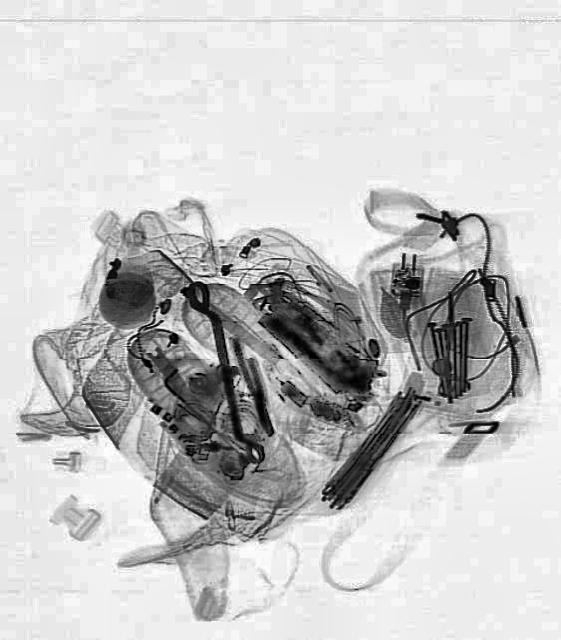Pliers: (230, 330, 278, 440)
Wrench: (179, 275, 268, 467)
